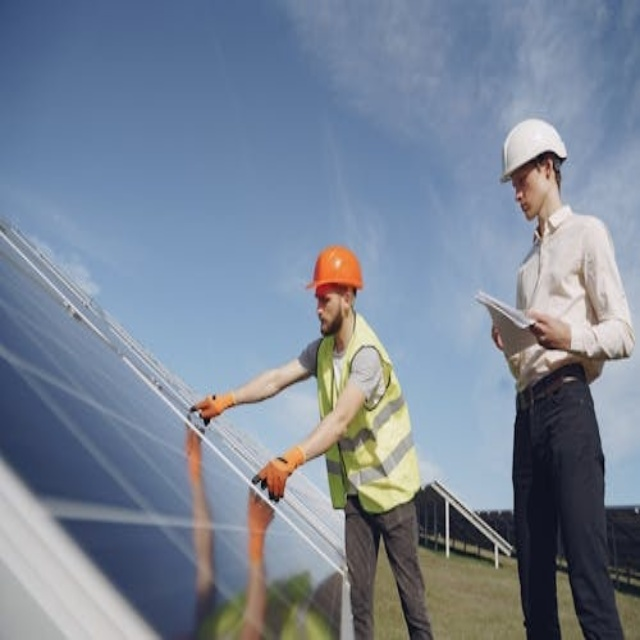Guantes: (251, 446, 305, 502), (191, 391, 237, 425)
Sin_gafas: (512, 163, 535, 190), (316, 288, 334, 309)
Sin_guantes: (526, 309, 570, 350)
Sin_mascara: (517, 196, 536, 221), (317, 309, 330, 334)
